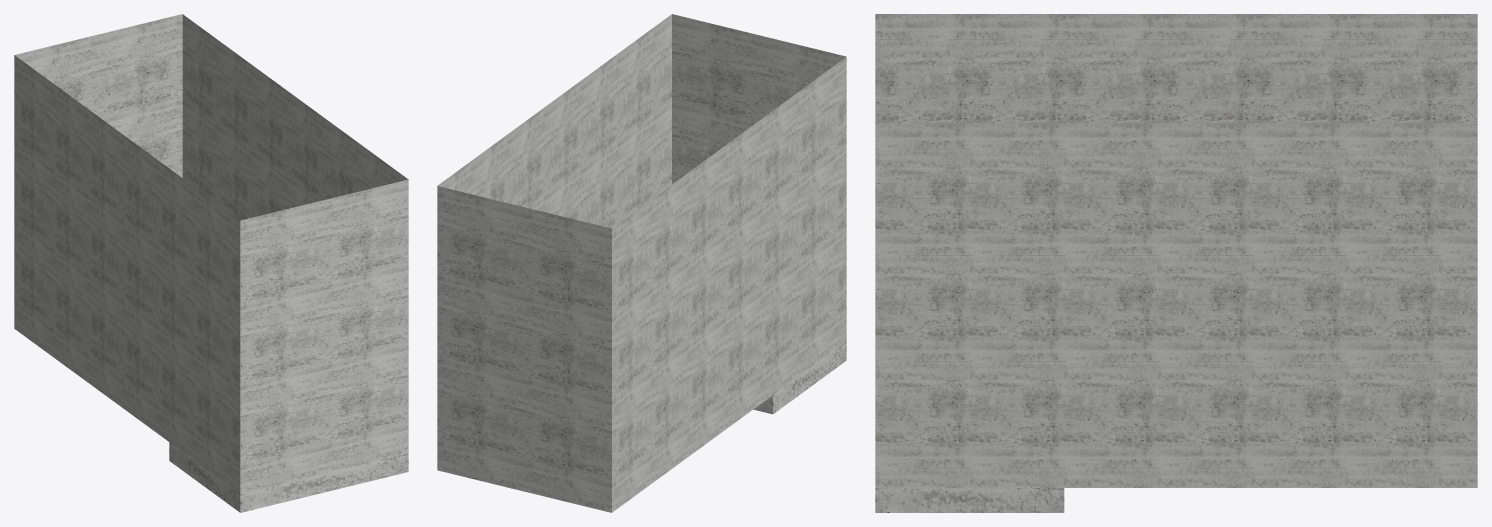
Rendered from walls.obj.
The picture shows the model from 3 angles, left to right: view 1: azimuth 30°, elevation 25°; view 2: azimuth 150°, elevation 25°; view 3: azimuth 270°, elevation 25°; orthographic projection. The views are drawn at different scales.
Visible parts, largest first — view 1: Box008, Box003; view 2: Box008, Box003; view 3: Box008, Box003.
Part boxes in pixels (bbox=[...]): Box008: bbox=[14, 14, 408, 494]; Box003: bbox=[169, 442, 408, 512]; Box008: bbox=[437, 14, 846, 512]; Box003: bbox=[753, 341, 846, 414]; Box008: bbox=[875, 14, 1477, 487]; Box003: bbox=[875, 488, 1064, 512].
Bounding box in the file's own units: 14.27 × 23.72 × 33.24.
